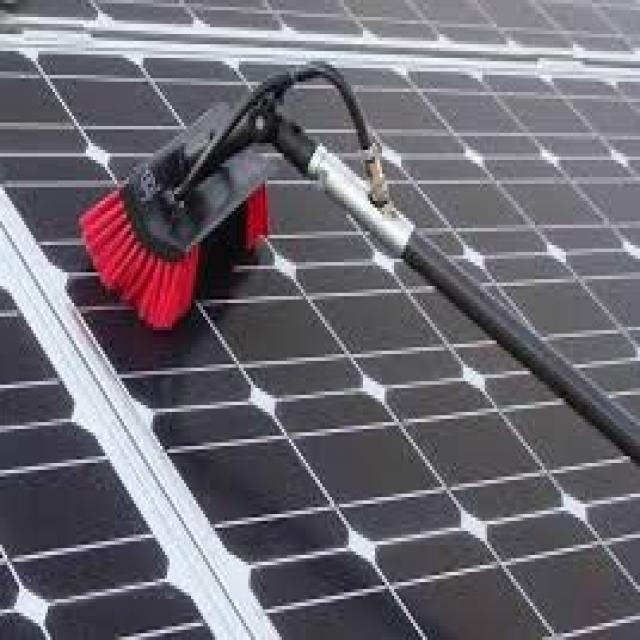clean-solar-panel: (1, 2, 640, 638)
